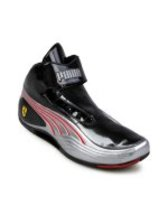shoes: (15, 44, 155, 170)
